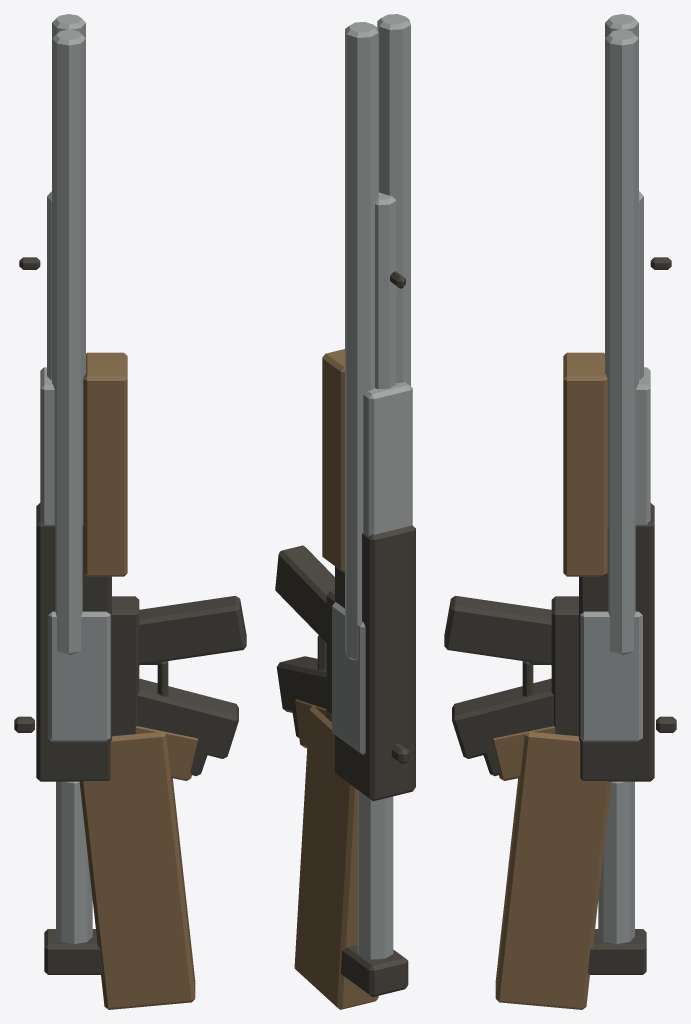
Rendered from weapons.glb.
3 renders of one model, left to right at view 1: azimuth 90°, elevation 25°; view 2: azimuth 210°, elevation 25°; view 3: azimuth 270°, elevation 25°, orthographic. The views are drawn at different scales.
Visible parts, largest first — view 1: Shotgun, Carbine, Pistol; view 2: Shotgun, Carbine, Pistol; view 3: Shotgun, Carbine, Pistol.
Part boxes in pixels (x1,y1,x2,y2): Shotgun: (48, 14, 198, 1009); Carbine: (14, 191, 246, 974); Pistol: (112, 596, 238, 758); Shotgun: (294, 14, 410, 1009); Carbine: (275, 192, 415, 996); Pistol: (276, 590, 334, 721); Shotgun: (492, 14, 642, 1009); Carbine: (444, 191, 676, 974); Pistol: (452, 596, 578, 758).
Size of the model in its own units: 0.054 by 0.8241 by 0.1782.
